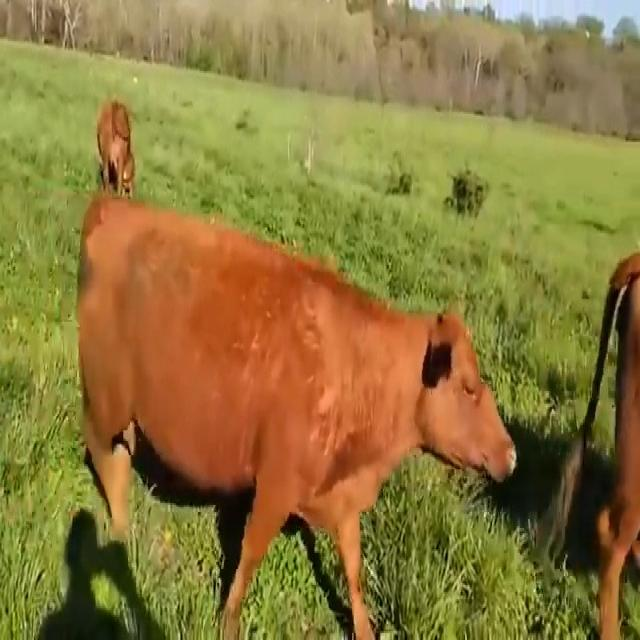cow: (78, 196, 515, 638)
